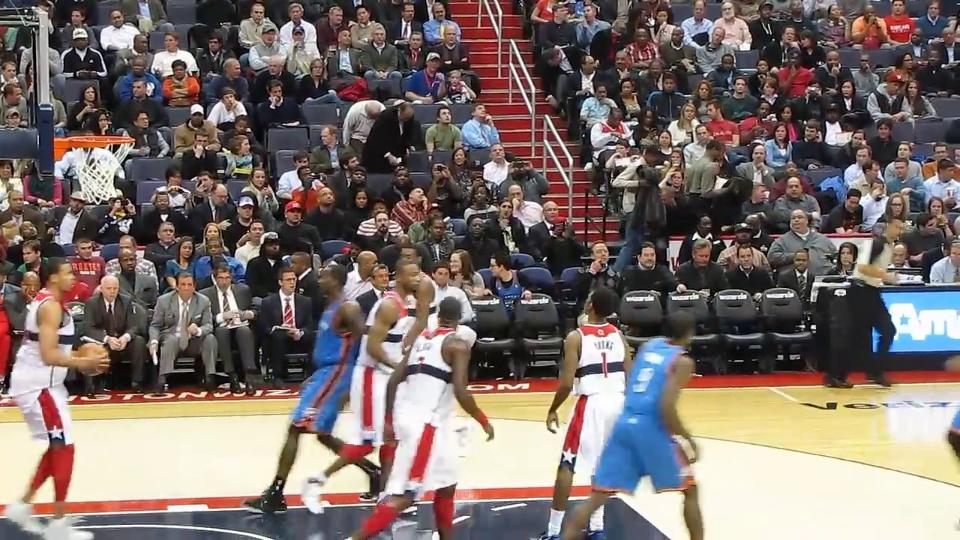hoop: (54, 134, 139, 156)
